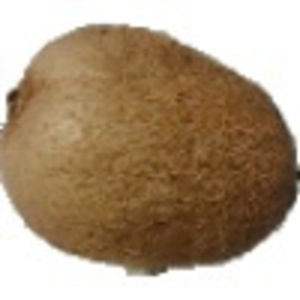kiwi: (1, 22, 300, 279)
